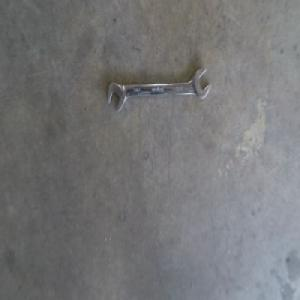Wrench: (103, 69, 213, 117)
